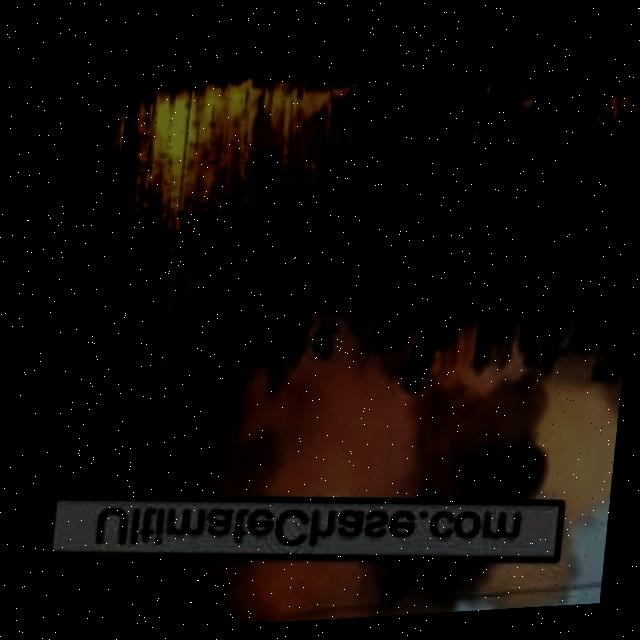Fire: (118, 66, 344, 222), (479, 83, 539, 136), (591, 98, 637, 131)
Smoke: (248, 311, 630, 523), (0, 518, 490, 640)
